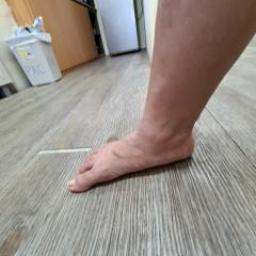Medial View -Right Foot-: (54, 86, 216, 207)
